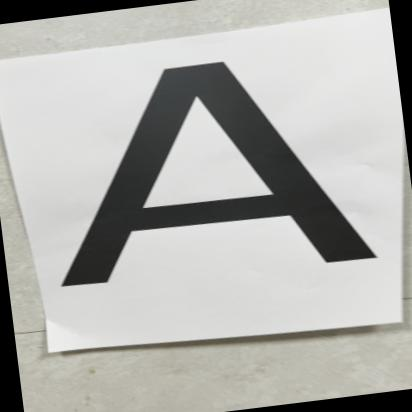seat: (20, 28, 398, 328)
